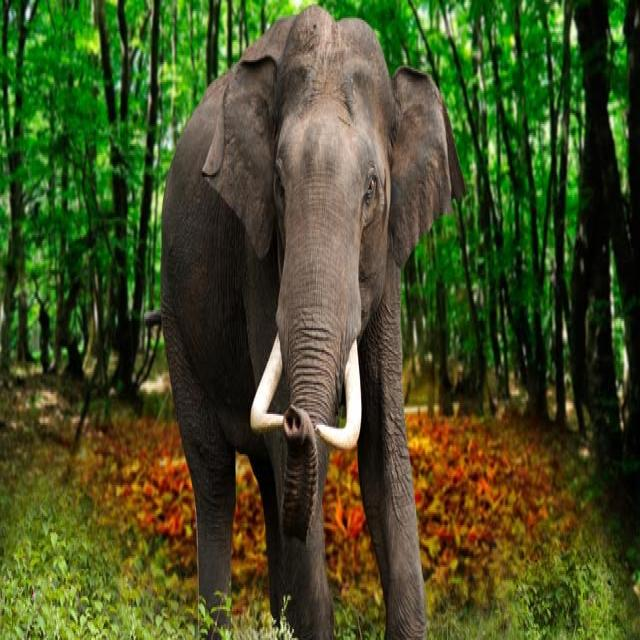Elephant: (157, 4, 466, 638)
